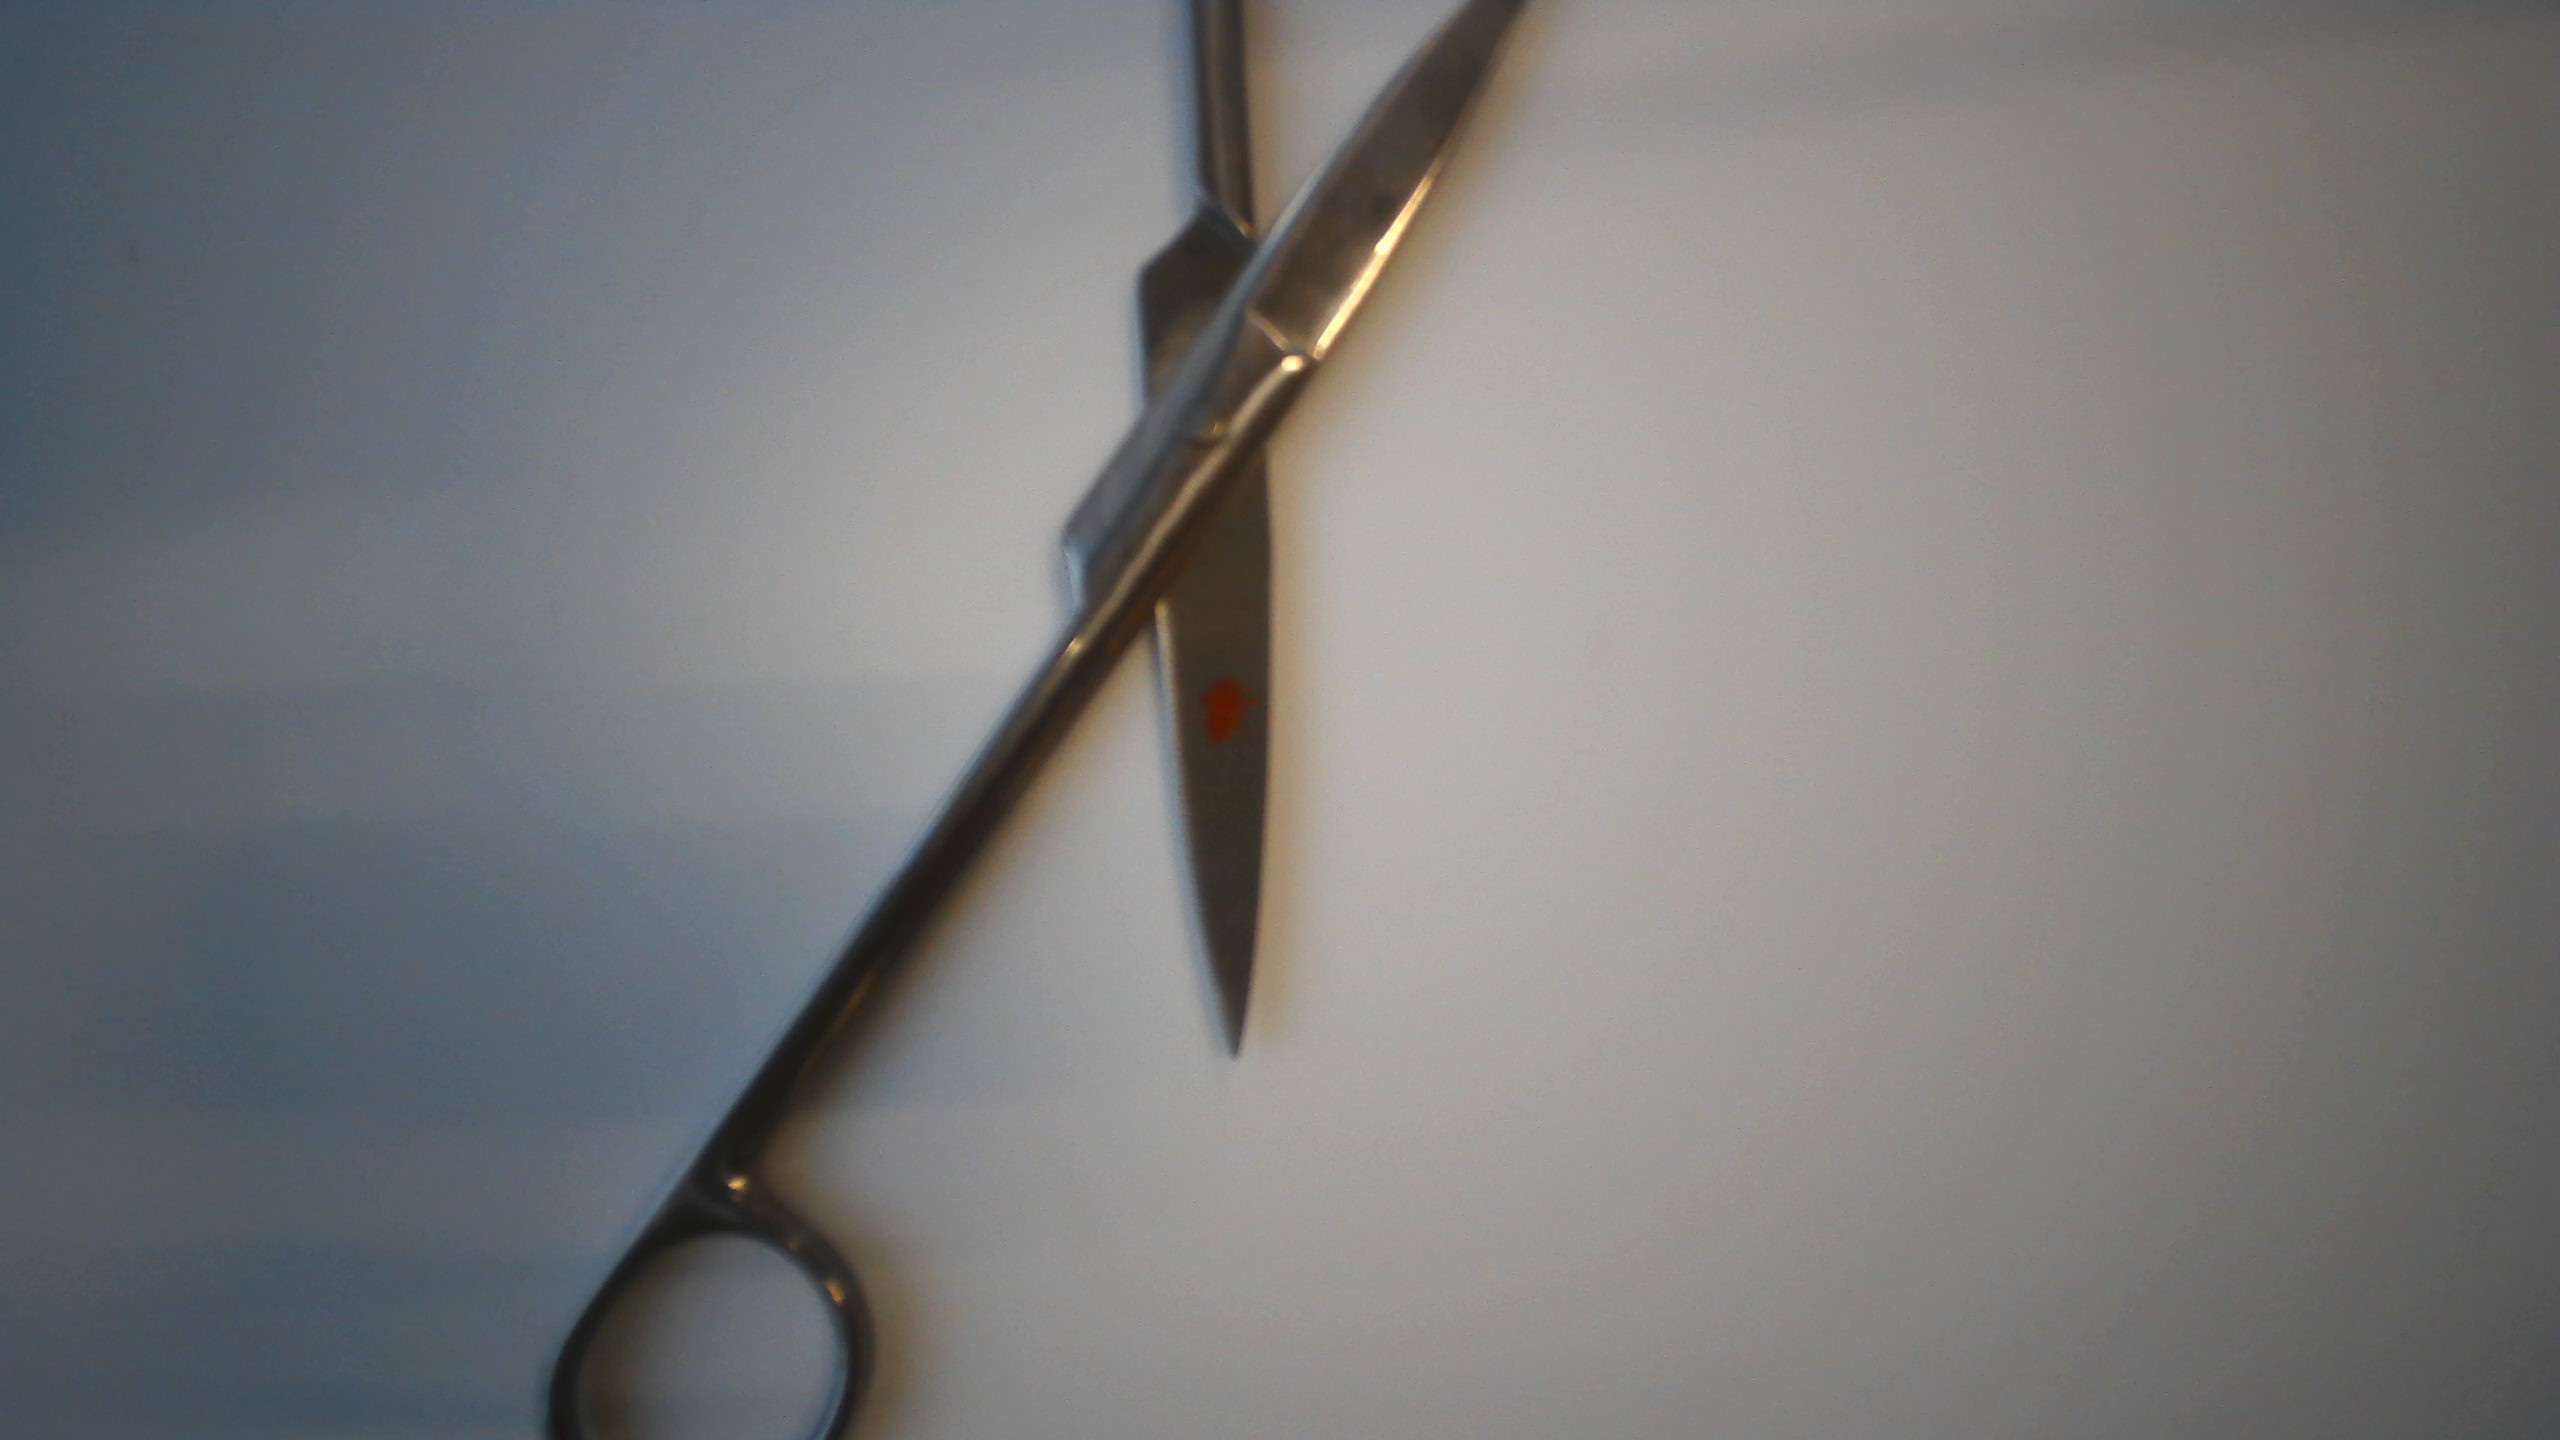Stain: (1202, 674, 1253, 737)
